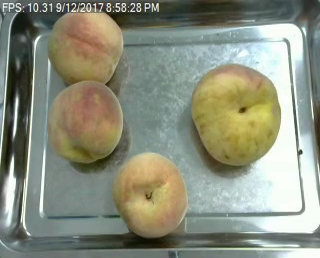Peach: (190, 64, 281, 169), (47, 78, 124, 164), (111, 152, 187, 238), (46, 7, 124, 87)
